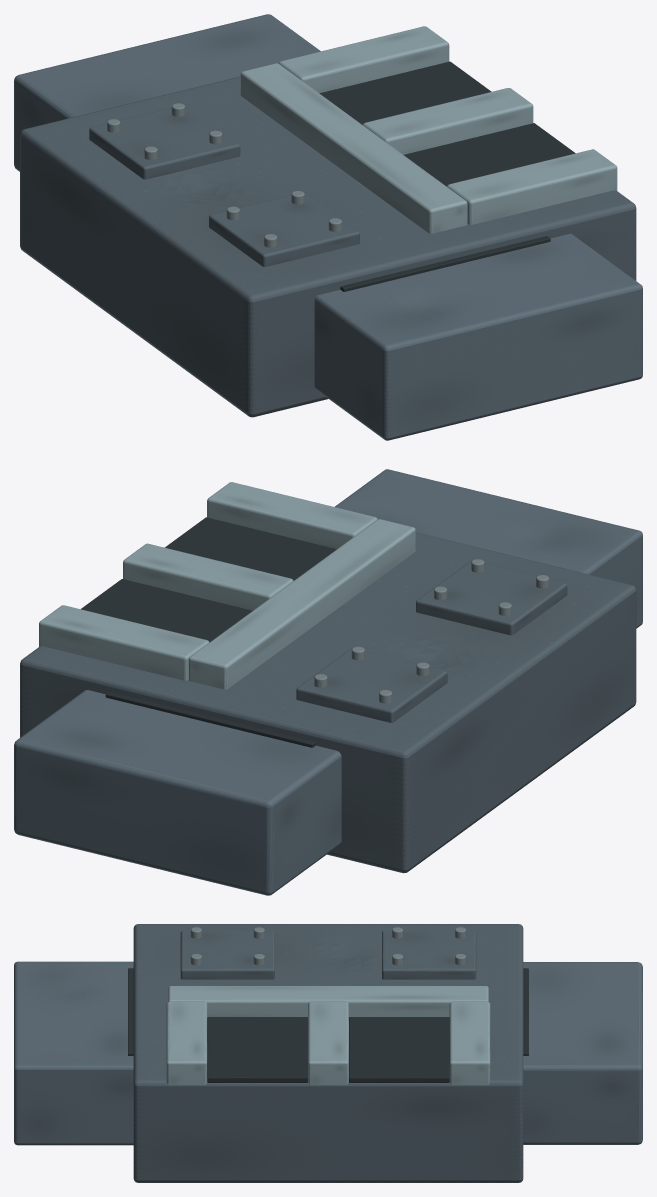
The picture shows the model from 3 angles, top to bottom: view 1: azimuth 30°, elevation 25°; view 2: azimuth 150°, elevation 25°; view 3: azimuth 270°, elevation 25°; orthographic projection. The views are drawn at different scales.
Parts seen in each view (by area): view 1: Mauna Minor Hurt Unit central casing, Mauna Minor Hurt Unit forward terminal, Mauna Minor Hurt Unit rear terminal, Mauna Minor Hurt Unit pale side spine, Mauna Minor Hurt Unit pale crossbar 0, Mauna Minor Hurt Unit service cover 1, Mauna Minor Hurt Unit service cover 0, Mauna Minor Hurt Unit pale crossbar 1, Mauna Minor Hurt Unit pale crossbar 2, Mauna Minor Hurt Unit dark inset floor 0, Mauna Minor Hurt Unit dark inset floor 1, Mauna Minor Hurt Unit forward terminal seam; view 2: Mauna Minor Hurt Unit central casing, Mauna Minor Hurt Unit rear terminal, Mauna Minor Hurt Unit forward terminal, Mauna Minor Hurt Unit pale side spine, Mauna Minor Hurt Unit pale crossbar 2, Mauna Minor Hurt Unit service cover 1, Mauna Minor Hurt Unit service cover 0, Mauna Minor Hurt Unit pale crossbar 0, Mauna Minor Hurt Unit pale crossbar 1, Mauna Minor Hurt Unit dark inset floor 0, Mauna Minor Hurt Unit dark inset floor 1, Mauna Minor Hurt Unit rear terminal seam; view 3: Mauna Minor Hurt Unit central casing, Mauna Minor Hurt Unit forward terminal, Mauna Minor Hurt Unit rear terminal, Mauna Minor Hurt Unit pale side spine, Mauna Minor Hurt Unit dark inset floor 0, Mauna Minor Hurt Unit dark inset floor 1, Mauna Minor Hurt Unit service cover 0, Mauna Minor Hurt Unit service cover 1, Mauna Minor Hurt Unit pale crossbar 0, Mauna Minor Hurt Unit pale crossbar 2, Mauna Minor Hurt Unit pale crossbar 1, Mauna Minor Hurt Unit forward terminal seam (+1 smaller).
Boxes of the visible parts, bbox=[...] form: Mauna Minor Hurt Unit central casing: bbox=[20, 76, 636, 417]; Mauna Minor Hurt Unit forward terminal: bbox=[314, 233, 642, 440]; Mauna Minor Hurt Unit rear terminal: bbox=[14, 14, 320, 171]; Mauna Minor Hurt Unit pale side spine: bbox=[240, 63, 467, 233]; Mauna Minor Hurt Unit pale crossbar 0: bbox=[447, 149, 617, 224]; Mauna Minor Hurt Unit service cover 1: bbox=[89, 105, 240, 179]; Mauna Minor Hurt Unit service cover 0: bbox=[209, 192, 359, 266]; Mauna Minor Hurt Unit pale crossbar 1: bbox=[363, 88, 533, 154]; Mauna Minor Hurt Unit pale crossbar 2: bbox=[278, 26, 449, 93]; Mauna Minor Hurt Unit dark inset floor 0: bbox=[404, 123, 575, 186]; Mauna Minor Hurt Unit dark inset floor 1: bbox=[319, 61, 491, 124]; Mauna Minor Hurt Unit forward terminal seam: bbox=[340, 236, 550, 291]; Mauna Minor Hurt Unit central casing: bbox=[20, 532, 636, 873]; Mauna Minor Hurt Unit rear terminal: bbox=[14, 690, 341, 895]; Mauna Minor Hurt Unit forward terminal: bbox=[335, 469, 642, 628]; Mauna Minor Hurt Unit pale side spine: bbox=[188, 519, 415, 689]; Mauna Minor Hurt Unit pale crossbar 2: bbox=[39, 605, 209, 680]; Mauna Minor Hurt Unit service cover 1: bbox=[296, 648, 447, 722]; Mauna Minor Hurt Unit service cover 0: bbox=[416, 560, 567, 635]; Mauna Minor Hurt Unit pale crossbar 0: bbox=[207, 482, 377, 548]; Mauna Minor Hurt Unit pale crossbar 1: bbox=[123, 543, 293, 610]; Mauna Minor Hurt Unit dark inset floor 0: bbox=[165, 517, 336, 580]; Mauna Minor Hurt Unit dark inset floor 1: bbox=[81, 579, 252, 642]; Mauna Minor Hurt Unit rear terminal seam: bbox=[105, 692, 315, 747]; Mauna Minor Hurt Unit central casing: bbox=[133, 924, 523, 1182]; Mauna Minor Hurt Unit forward terminal: bbox=[14, 961, 133, 1145]; Mauna Minor Hurt Unit rear terminal: bbox=[523, 962, 642, 1144]; Mauna Minor Hurt Unit pale side spine: bbox=[168, 986, 488, 1017]; Mauna Minor Hurt Unit dark inset floor 0: bbox=[207, 1017, 307, 1082]; Mauna Minor Hurt Unit dark inset floor 1: bbox=[349, 1017, 449, 1082]; Mauna Minor Hurt Unit service cover 0: bbox=[180, 930, 274, 979]; Mauna Minor Hurt Unit service cover 1: bbox=[382, 930, 476, 979]; Mauna Minor Hurt Unit pale crossbar 0: bbox=[166, 1001, 207, 1085]; Mauna Minor Hurt Unit pale crossbar 2: bbox=[449, 1001, 490, 1085]; Mauna Minor Hurt Unit pale crossbar 1: bbox=[308, 1001, 348, 1085]; Mauna Minor Hurt Unit forward terminal seam: bbox=[128, 968, 133, 1055].
Size of the model in its own units: 1.2 by 0.4425 by 2.
Materials: 5 (3 with a texture image).
